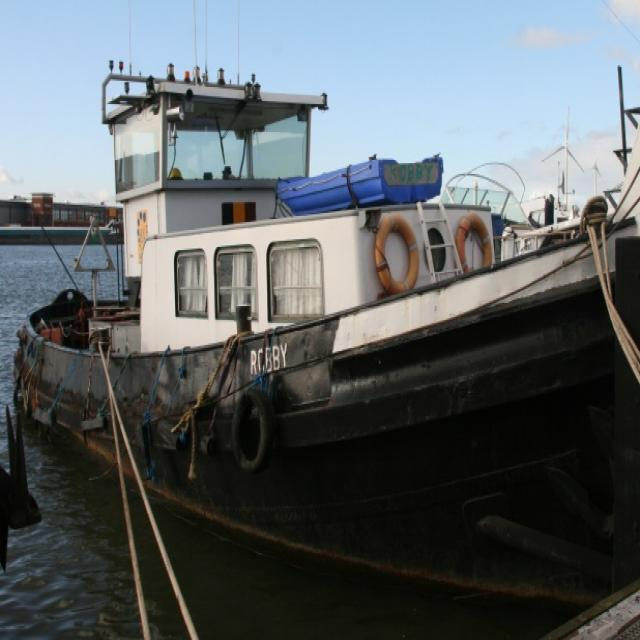tugboat: (10, 1, 640, 638)
